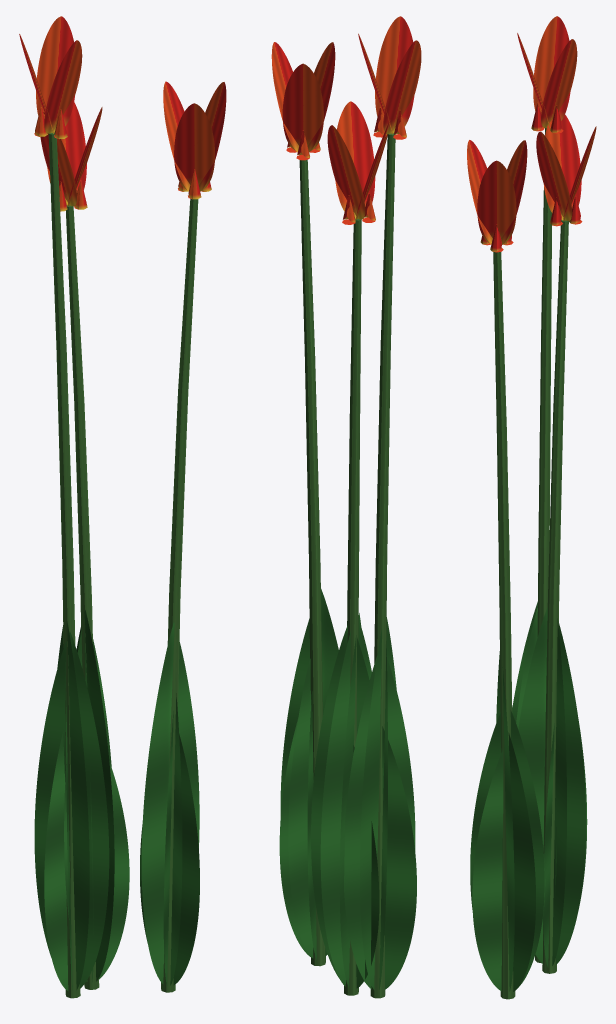
File: heliconia_bloom_v01.fbx
The picture shows the model from 3 angles, left to right: view 1: azimuth 30°, elevation 25°; view 2: azimuth 150°, elevation 25°; view 3: azimuth 270°, elevation 25°; orthographic projection. The views are drawn at different scales.
Parts seen in each view (by area): view 1: heliconia_bloom_v01; view 2: heliconia_bloom_v01; view 3: heliconia_bloom_v01.
Part boxes in pixels (x1,y1,x2,y2): heliconia_bloom_v01: (19,16,226,998); heliconia_bloom_v01: (271,16,421,998); heliconia_bloom_v01: (467,16,596,999).
Size of the model in its own units: 34.71 by 25.31 by 180.
3 materials, 3 textured.
